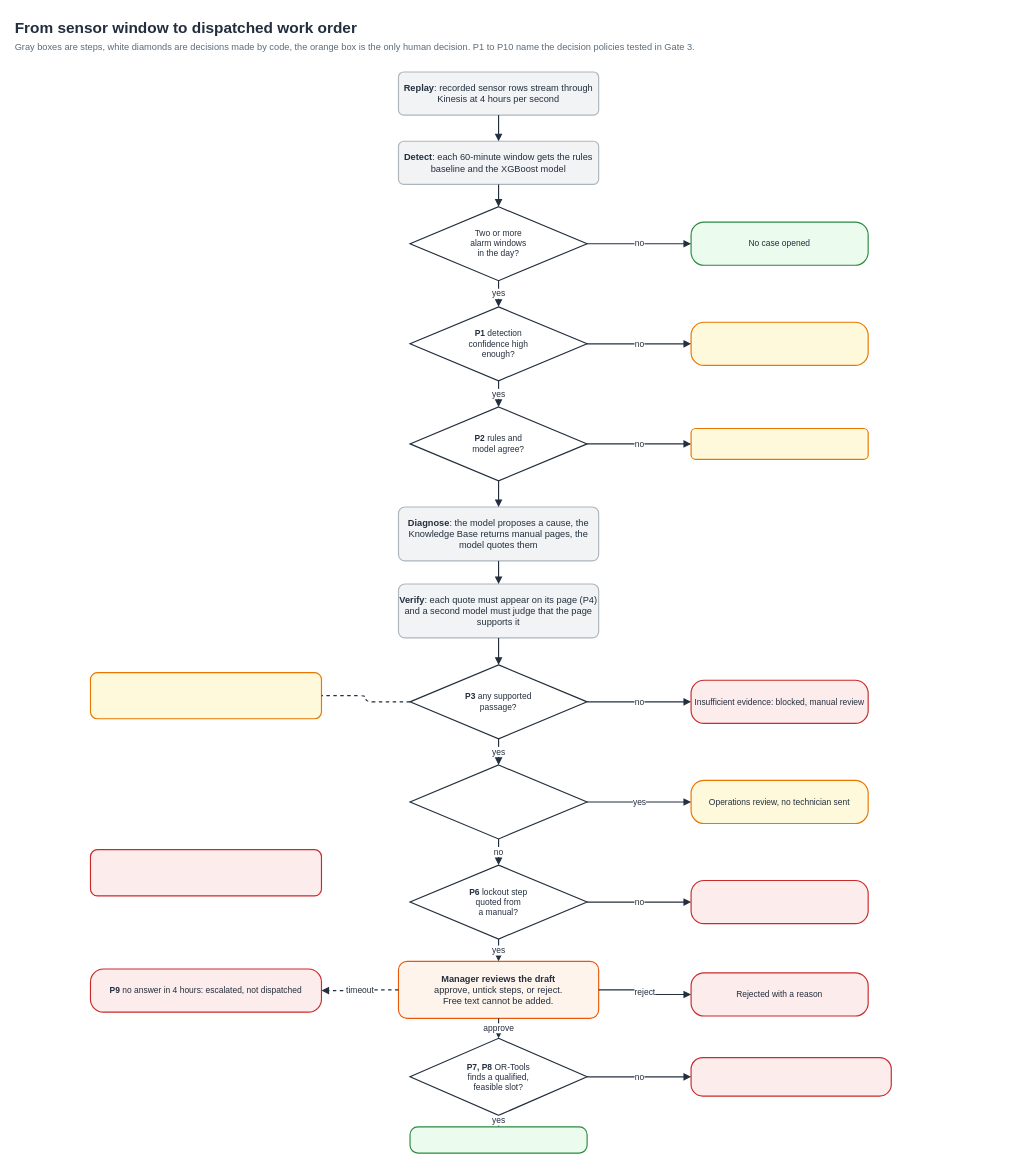
Some shapes in this 1027 by 1167 pixel diagram are drawn without their labels. Each missing label, with the centre of its shape:
"Assigned , with runner-up and reason" goes at point 498,1139.
"Blocked: no sourced lockout step" goes at point 779,902.
"Building operations fault?" goes at point 498,801.
"Escalated unassigned (P7) or reschedule requested (P8)" goes at point 791,1076.
"Flag: manager review required" goes at point 779,444.
"Manual review, not diagnosed" goes at point 779,343.
"P10 a technician asking about another technician's job is denied and audited" goes at point 206,872.
"P5 manual matches the class, not the model: mark compatibility uncertain" goes at point 206,695.
